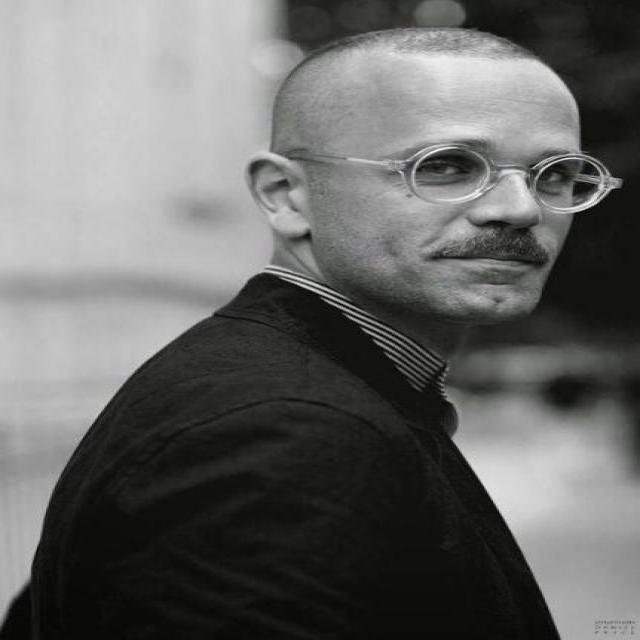glasses: (288, 147, 621, 215)
